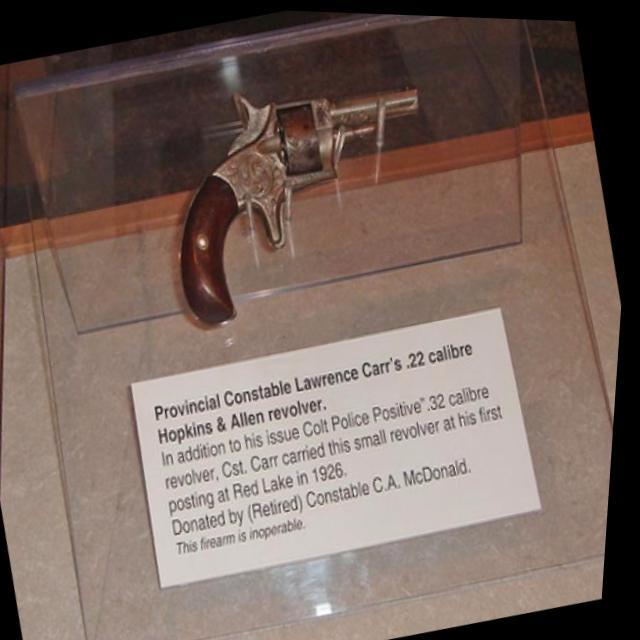weapon: (141, 45, 463, 337)
